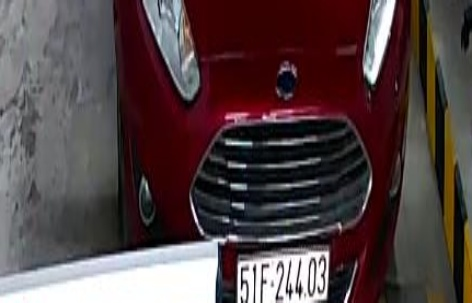plate: (221, 243, 346, 302)
